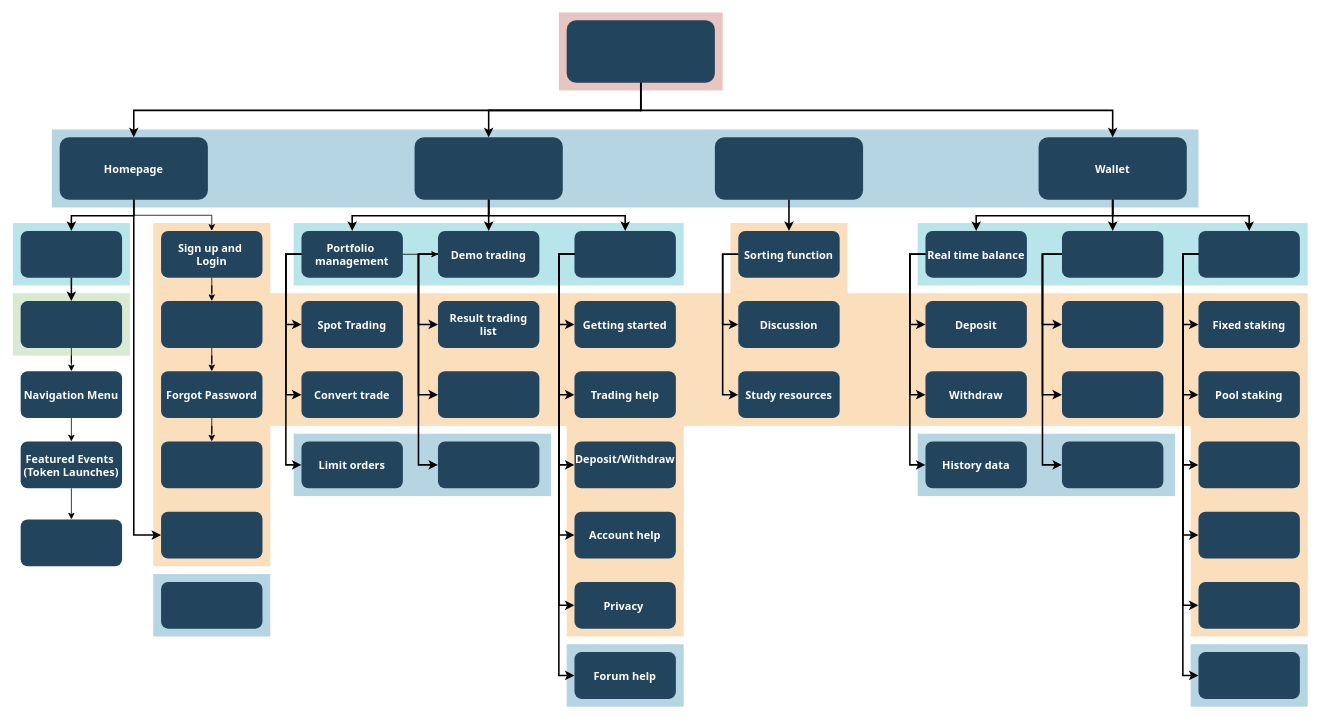
Some shapes in this 1321 by 719 pixel diagram are drawn without their labels. Here are the shapes that lost their labels. From the top down, the centre of each, then its label:
(640,51): Website
(488,168): Dashboard
(788,168): Forum
(71,253): Market Overview (Latest Prices, Trending Coins)
(624,253): Help center
(1112,253): Manage API key
(1248,253): Earning
(71,324): News and Updates
(211,324): User registeration
(211,464): Captcha
(71,542): Crypto converter
(211,534): Login screen
(211,604): Data Collection
